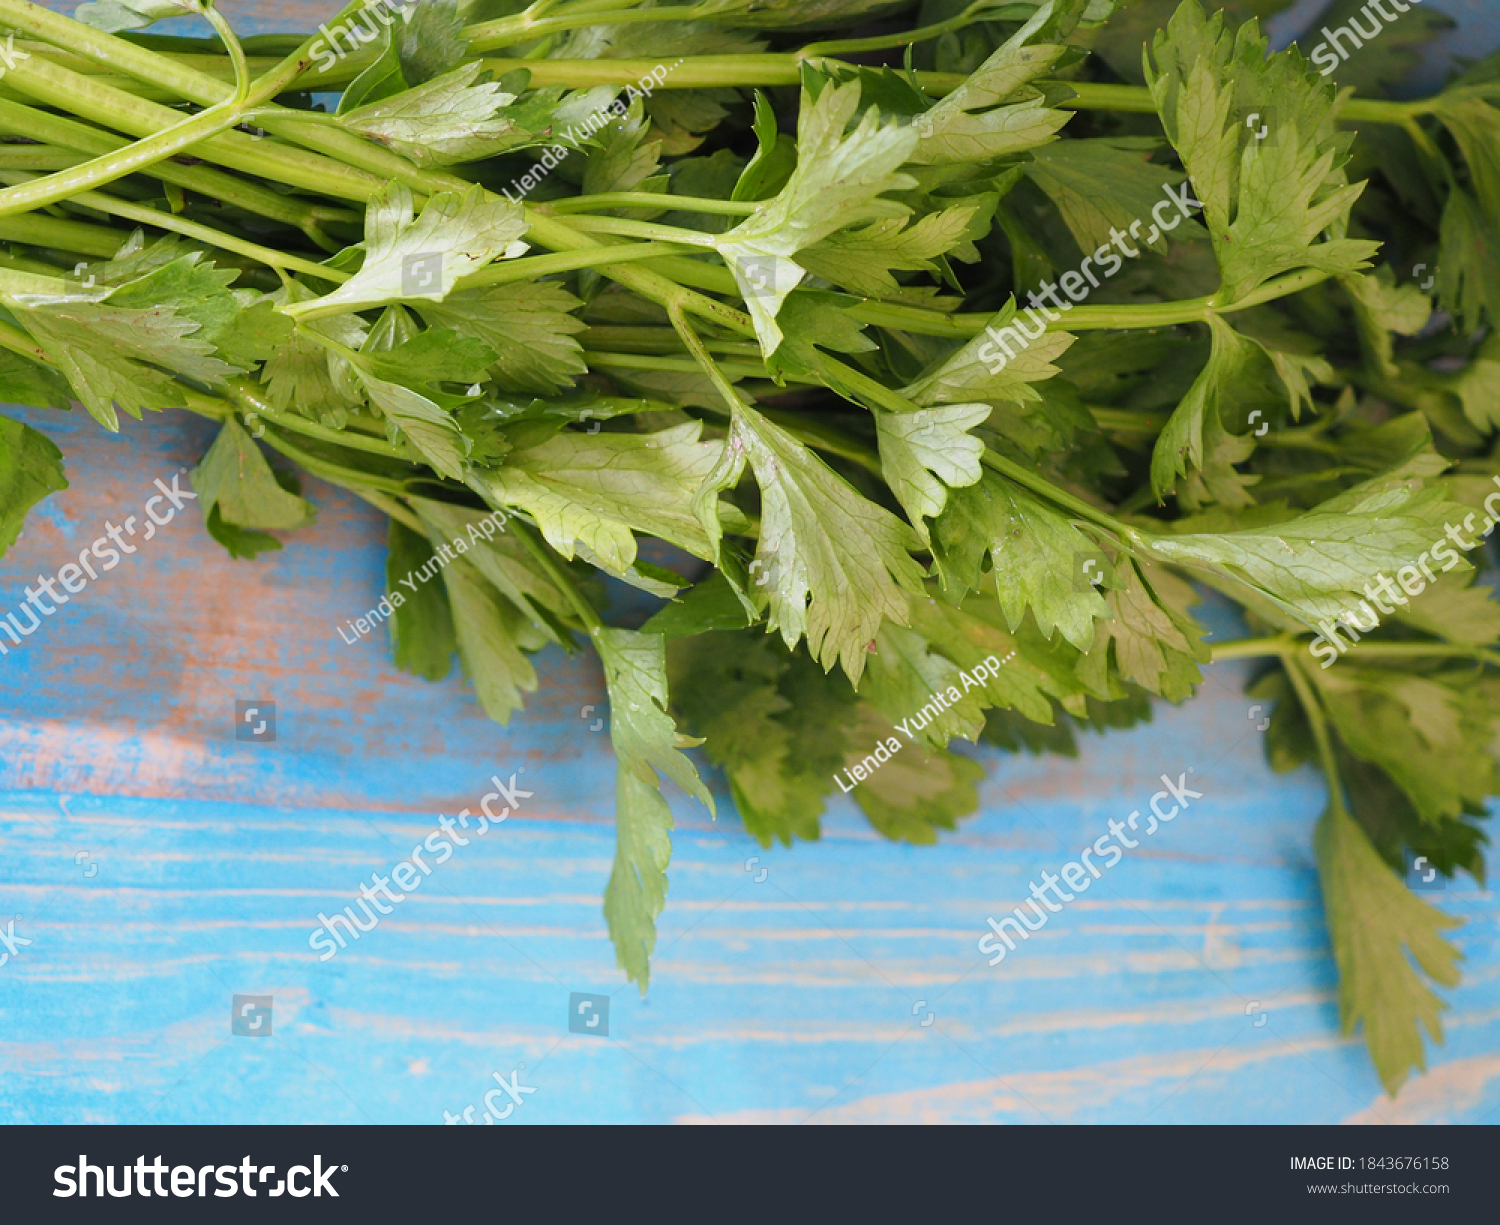Seledri: (177, 25, 1500, 882)
